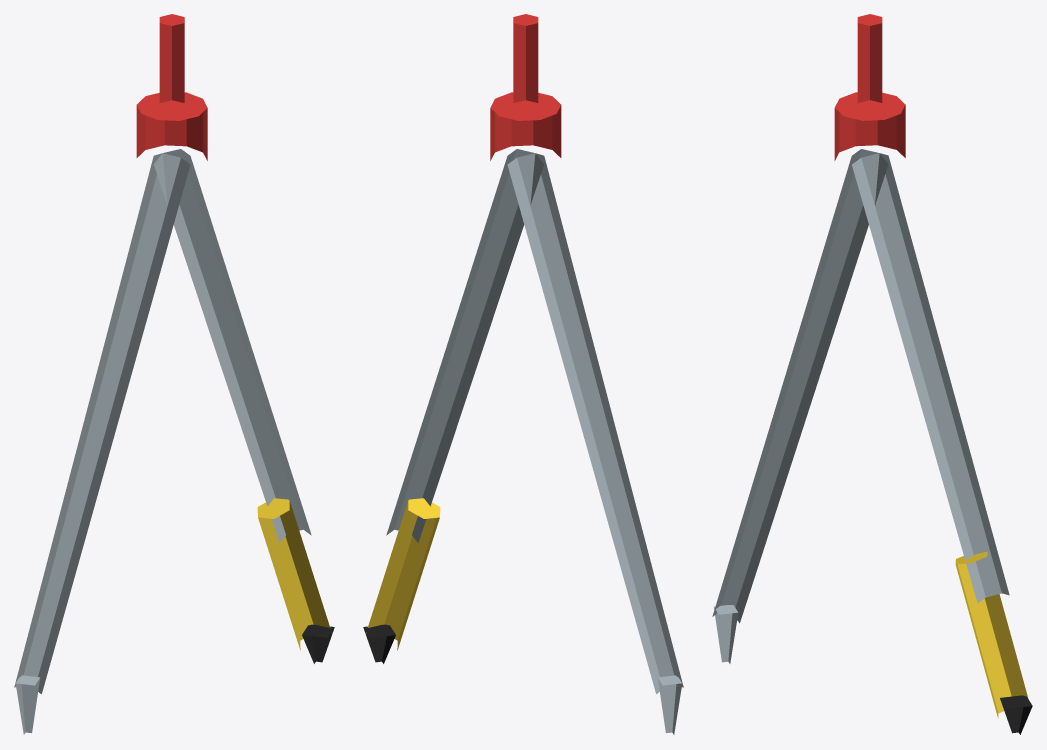
Rendered from passare.glb.
3 views of the same model, side by side, from view 1: azimuth 30°, elevation 25°; view 2: azimuth 150°, elevation 25°; view 3: azimuth 330°, elevation 25° (orthographic).
Parts seen in each view (by area): view 1: passare; view 2: passare; view 3: passare.
Boxes of the visible parts, left/top/right/bottom form: passare: left=14, top=14, right=334, bottom=734; passare: left=363, top=14, right=683, bottom=734; passare: left=712, top=14, right=1032, bottom=734.
Bounding box in the file's own units: 0.31 × 0.63 × 0.0571.
